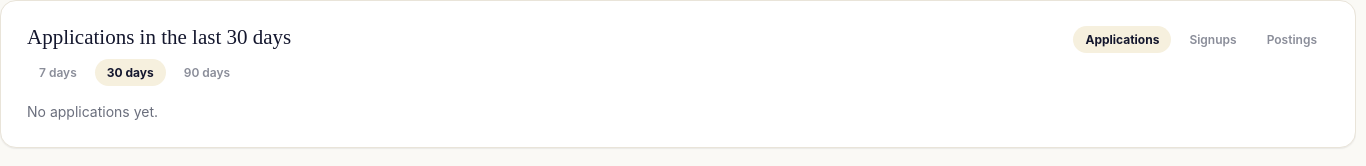
Test: Overview — Activity trend (ActivityTrend) › shows a series-aware empty state when the trend is all zero
Expected: the heading "Applications in the last 30 days" is shown, [27,25,291,50]
Click the button "Postings": (1292, 40) [1255,26,1329,53]
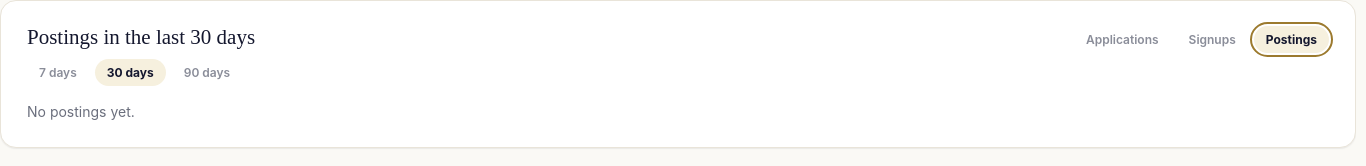
Expected: the text "No postings yet." is shown, [27,103,135,120]
